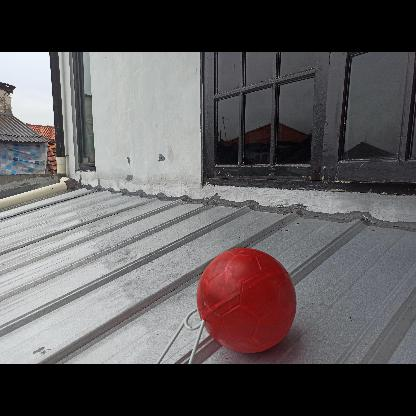red_ball: (192, 248, 296, 352)
